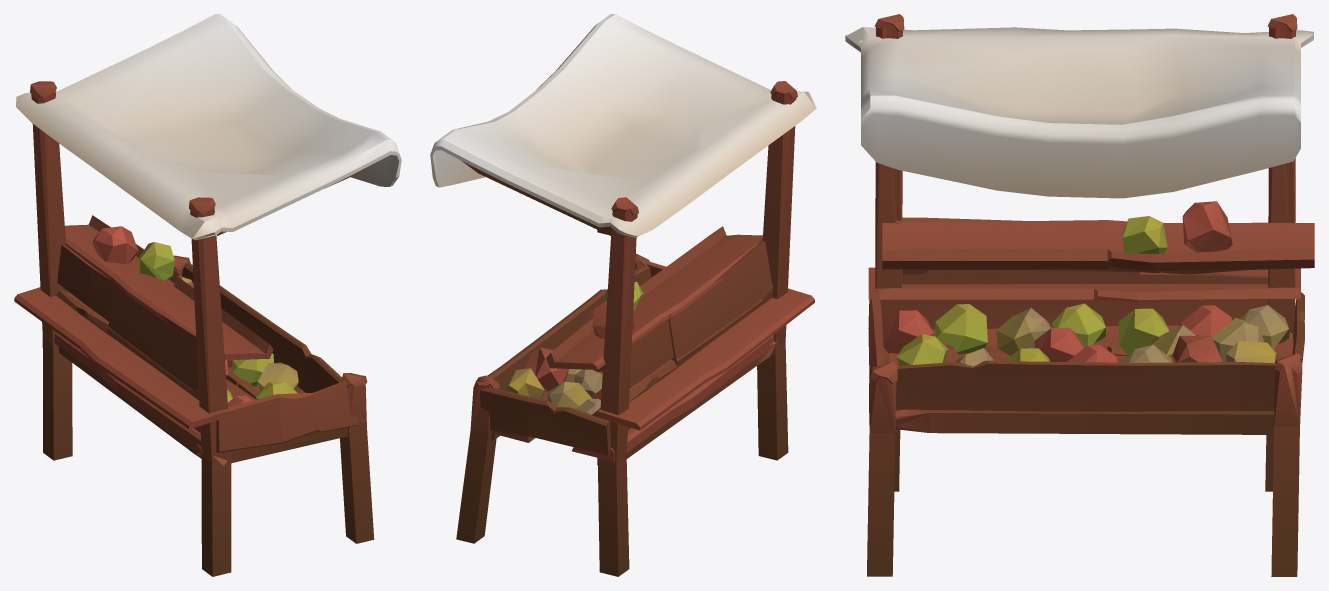
Rendered from MarketStand_White.fbx.
3 views of the same model, side by side, from view 1: azimuth 30°, elevation 25°; view 2: azimuth 150°, elevation 25°; view 3: azimuth 270°, elevation 25° (orthographic). The views are drawn at different scales.
Parts seen in each view (by area): view 1: MarketStand_White; view 2: MarketStand_White; view 3: MarketStand_White.
Part boxes in pixels (x1=…): MarketStand_White: x1=14, y1=14, x2=401, y2=576; MarketStand_White: x1=430, y1=14, x2=816, y2=576; MarketStand_White: x1=845, y1=14, x2=1314, y2=576.
Bounding box in the file's own units: 1.89 × 3.35 × 2.91.
